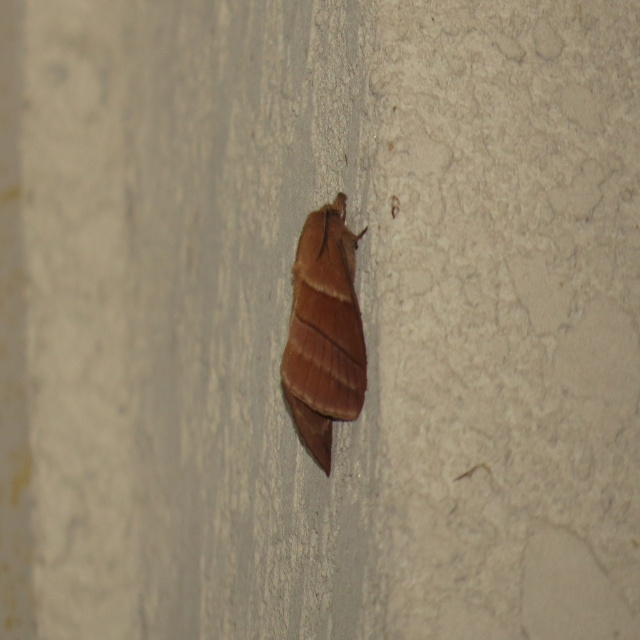Moths and butterflies: (281, 190, 368, 480)
